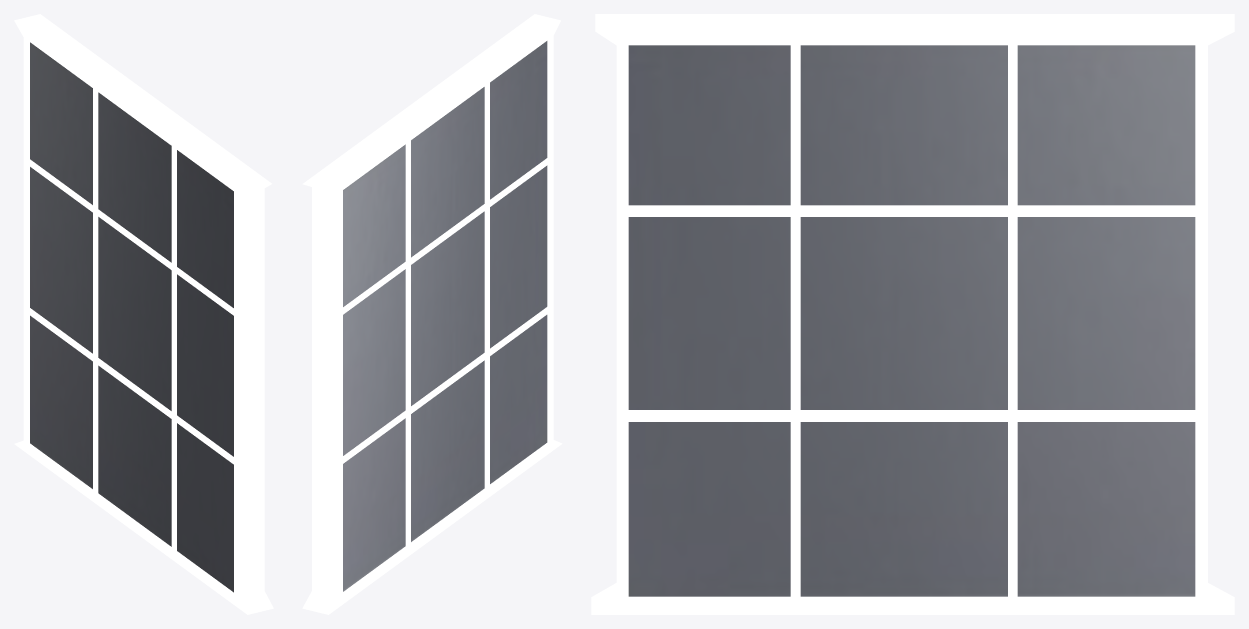
The model's file is Litewindow35.369bfb8a.gltf.
3 renders of one model, left to right at view 1: azimuth 30°, elevation 25°; view 2: azimuth 150°, elevation 25°; view 3: azimuth 270°, elevation 25°, orthographic. The views are drawn at different scales.
Parts seen in each view (by area): view 1: Plane.001, Plane; view 2: Plane.001, Plane; view 3: Plane.001, Plane.
Boxes of the visible parts, box(x1,y1,x2,y2) form: Plane.001: box(30, 42, 233, 592); Plane: box(14, 14, 273, 614); Plane.001: box(343, 41, 547, 591); Plane: box(302, 14, 562, 614); Plane.001: box(628, 45, 1195, 596); Plane: box(591, 14, 1234, 614).
Bounding box in the file's own units: 0.3905 × 6 × 6.
2 materials, 1 textured.
